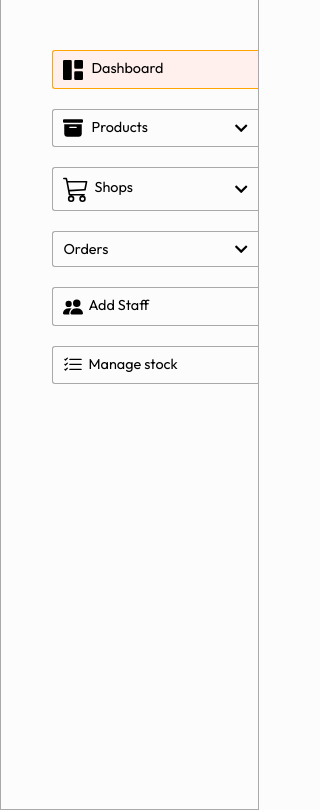
Test: Sidebar Component › toggles shops dropdown for admin
Click the text "Shops": (98,189) [63,176,133,202]
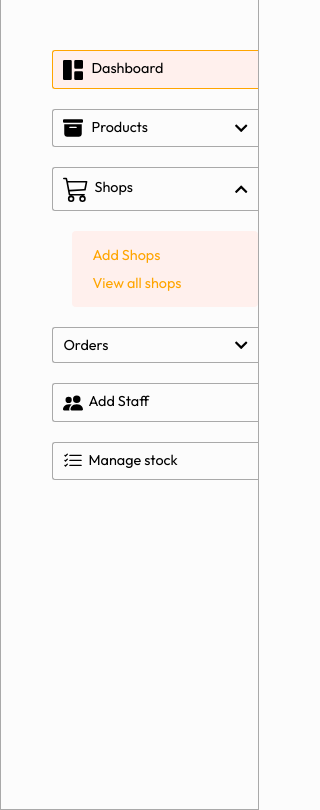
Now the text "View all shops" is shown, box [92,274,181,292]
Now the text "Add Shops" is shown, box [92,246,160,264]
